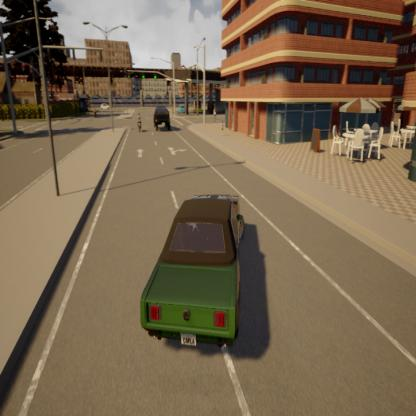Cars: (129, 184, 249, 360), (152, 104, 174, 134)
Pedestrian: (210, 101, 218, 128)
